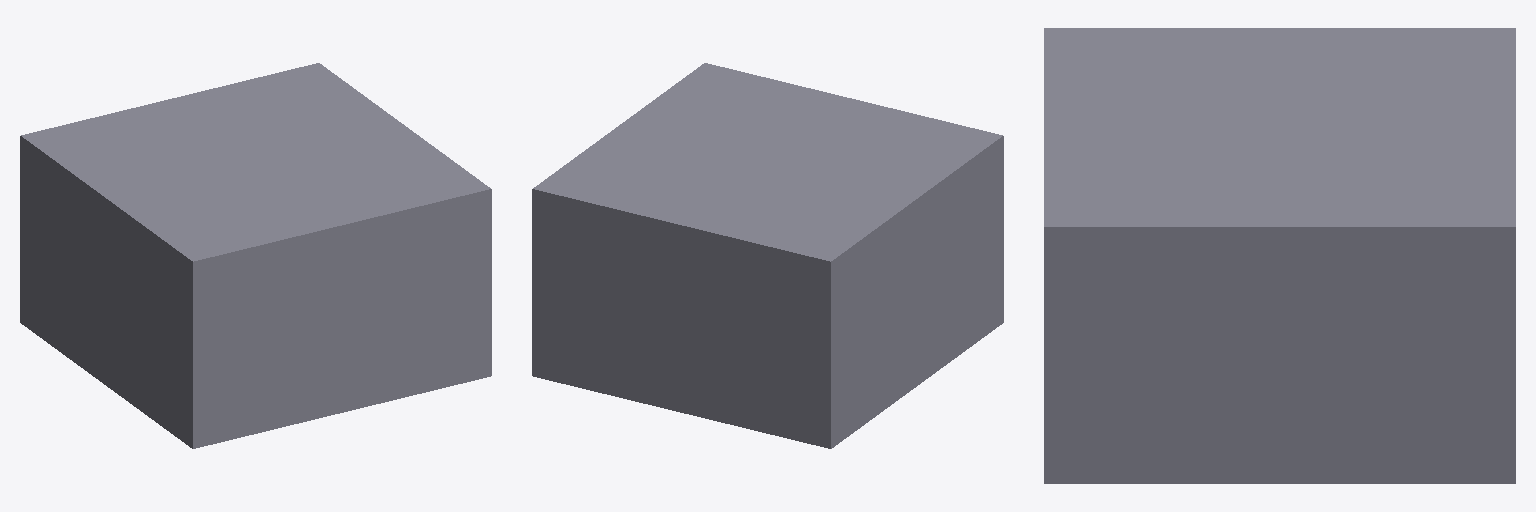
URDF robot description (OF_E_20260129_0001):
<?xml version="1.0"?>
<robot name="OF_E_20260129_0001">
  <link name="base_link">
    <visual>
      <geometry>
        <box size="0.06 0.06 0.036"/>
      </geometry>
      <material name="gray">
        <color rgba="0.6 0.6 0.65 1"/>
      </material>
    </visual>
    <collision>
      <geometry>
        <box size="0.06 0.06 0.036"/>
      </geometry>
    </collision>
    <inertial>
      <mass value="0.5"/>
      <inertia ixx="0.001" ixy="0" ixz="0" iyy="0.001" iyz="0" izz="0.001"/>
    </inertial>
  </link>
</robot>

--- Facts derived from the render (not from the file) ---
3 views of the same robot in one strip: view 1: azimuth 30°, elevation 25°; view 2: azimuth 150°, elevation 25°; view 3: azimuth 270°, elevation 25° (orthographic).
Robot: OF_E_20260129_0001 — 1 links, 0 joints (none); root link base_link; default pose: all joints at 0.
Links seen in each view (by area): view 1: base_link; view 2: base_link; view 3: base_link.
Boxes of the visible links, left/top/right/bottom form: base_link: left=20, top=63, right=491, bottom=448; base_link: left=532, top=63, right=1003, bottom=448; base_link: left=1044, top=28, right=1515, bottom=483.
Size in the robot's own frame: 0.06 by 0.06 by 0.036 metres.
Geometry: primitives only (box / cylinder / sphere), no mesh files.